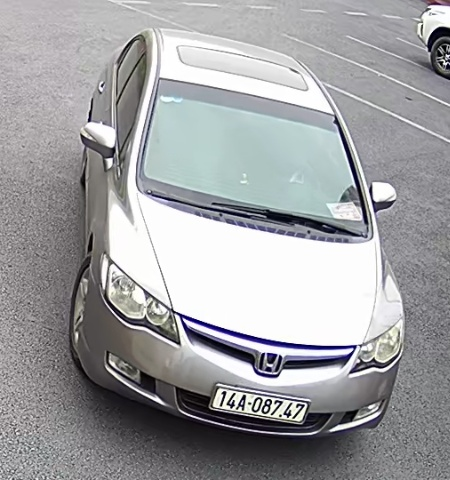vehicle plate: (202, 375, 318, 429)
